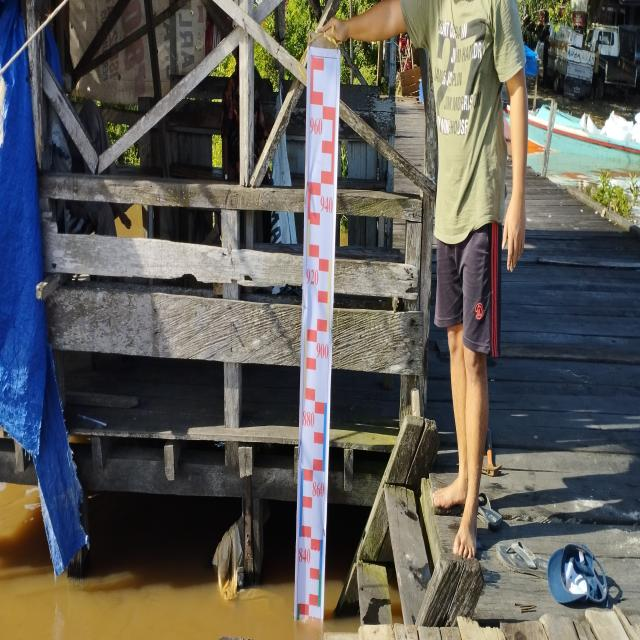ruler: (291, 32, 347, 634)
value: (320, 190, 334, 218), (310, 476, 326, 500), (309, 113, 323, 139), (298, 541, 312, 567), (301, 406, 315, 431), (305, 265, 320, 288), (315, 338, 329, 361)
